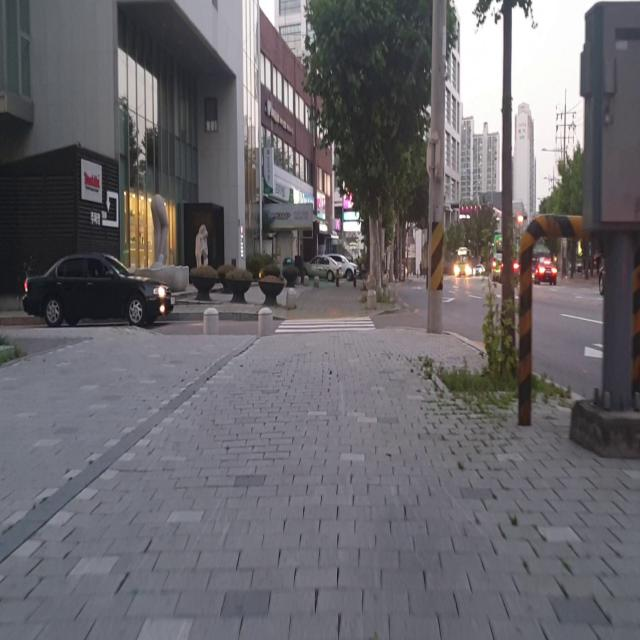횡단보도: (274, 316, 376, 332)
